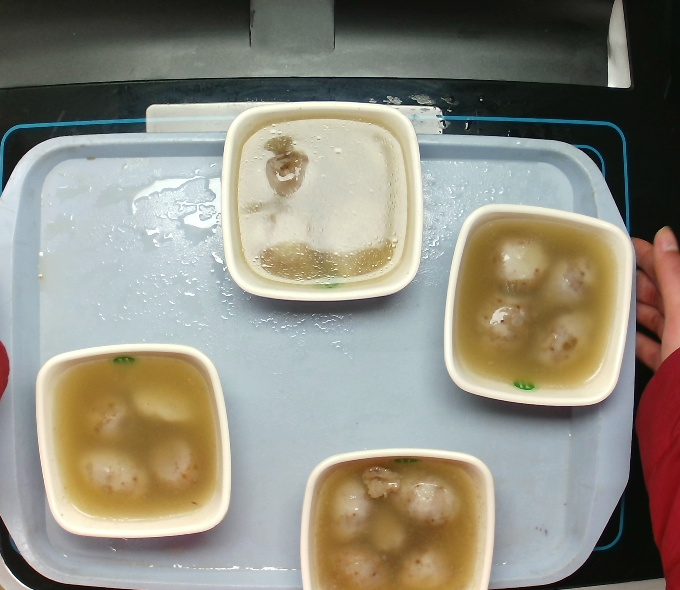wcq-YuTouTang: (451, 210, 624, 392), (232, 113, 412, 286), (51, 351, 221, 523), (309, 454, 482, 590)
